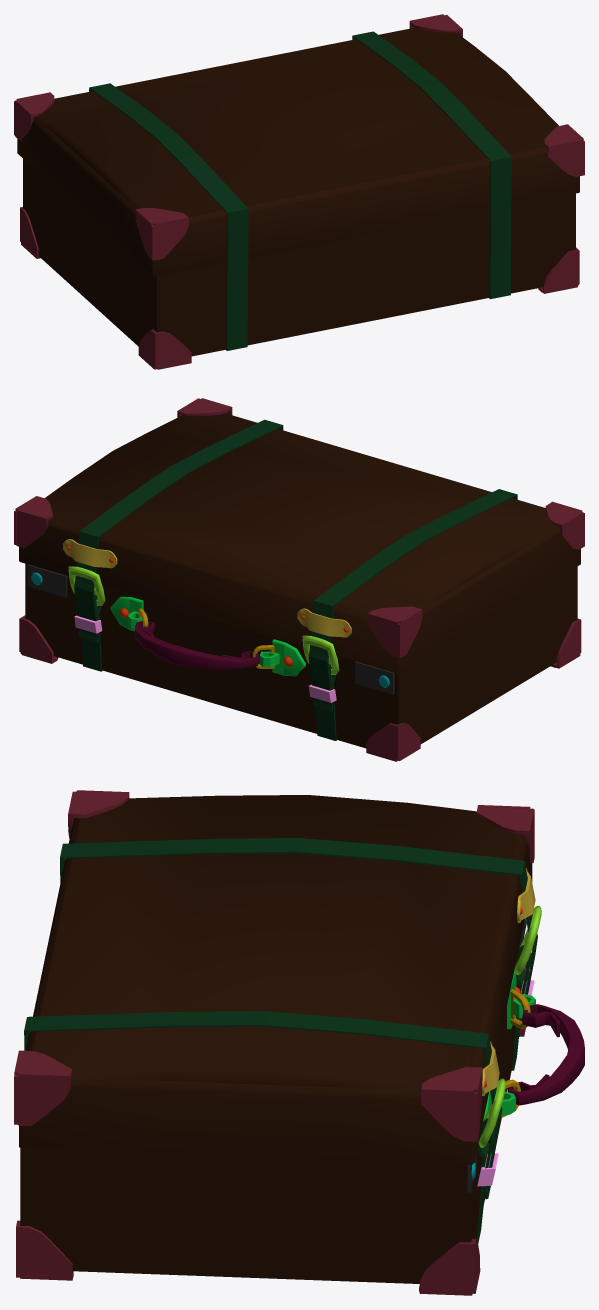
File: Luggage.FBX
The picture shows the model from 3 angles, top to bottom: view 1: azimuth 30°, elevation 25°; view 2: azimuth 150°, elevation 25°; view 3: azimuth 270°, elevation 25°; orthographic projection. The views are drawn at different scales.
Parts seen in each view (by area): view 1: Box267, Luggage, Box284, Box271, Box286, Box276, Box278, Box275, Box273, Box269, Box272, Box270 (+1 smaller); view 2: Box267, Luggage, Line005, w001 (×2), Box021, Box043, Circle006, Circle007, Box277, Box268, Box281, Box288 (+10 smaller); view 3: Box267, Luggage, Line005, Box274, Box283, Box044, Box279, w001 (×2), Box270, Box272, Box278, Box275.
Part boxes in pixels (box(x1,y1,x2,y2)): Box267: box(17, 28, 579, 356); Luggage: box(89, 31, 511, 350); Box284: box(543, 250, 577, 293); Box271: box(154, 216, 188, 260); Box286: box(154, 331, 191, 367); Box276: box(547, 140, 584, 176); Box278: box(411, 15, 462, 32); Box275: box(544, 125, 582, 149); Box273: box(135, 213, 155, 260); Box269: box(15, 100, 33, 140); Box272: box(135, 208, 186, 226); Box270: box(16, 92, 54, 116); Box267: box(19, 413, 580, 748); Luggage: box(74, 419, 517, 740); Line005: box(135, 621, 259, 670); w001 (×2): box(68, 566, 339, 674); Box021: box(259, 639, 305, 676); Box043: box(19, 618, 53, 660); Circle006: box(297, 608, 351, 637); Circle007: box(63, 539, 117, 568); Box277: box(16, 509, 48, 547); Box268: box(367, 616, 401, 657); Box281: box(366, 723, 397, 761); Box288: box(27, 564, 67, 597); Box267: box(19, 795, 532, 1283); Luggage: box(24, 838, 537, 1243); Line005: box(508, 1004, 584, 1105); Box274: box(18, 1072, 70, 1126); Box283: box(16, 1226, 72, 1276); Box044: box(419, 1242, 472, 1295); Box279: box(421, 1092, 478, 1141); w001 (×2): box(478, 905, 541, 1147); Box270: box(476, 807, 534, 834); Box272: box(72, 790, 129, 818); Box278: box(421, 1067, 477, 1095); Box275: box(14, 1050, 71, 1077).
Size of the model in its own units: 22.18 by 7.48 by 17.75.
